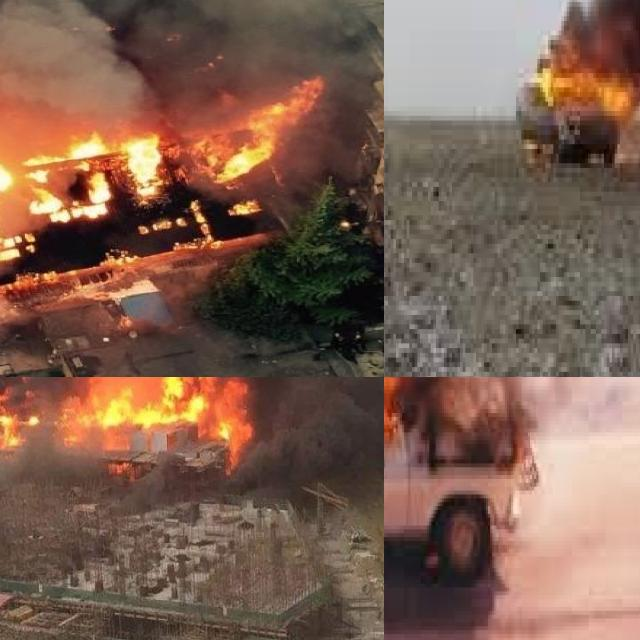fire: (0, 79, 319, 272), (0, 377, 257, 479), (516, 16, 640, 167)
smoke: (0, 0, 375, 119), (0, 377, 384, 442)
